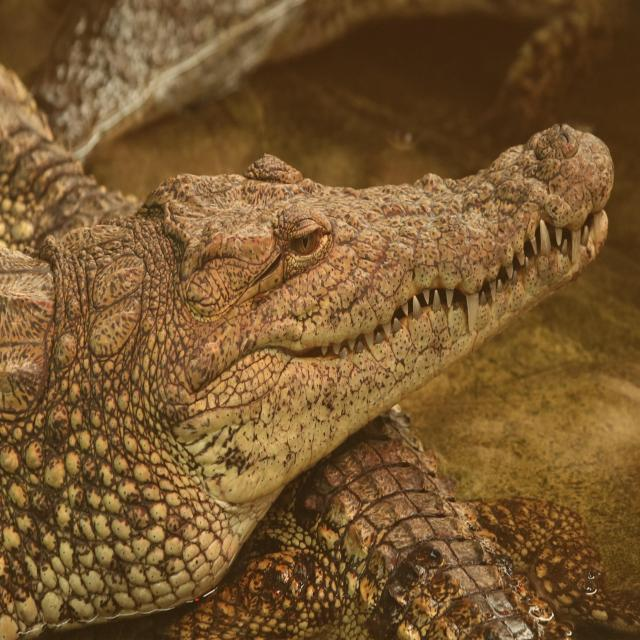crocodile: (0, 91, 634, 640)
